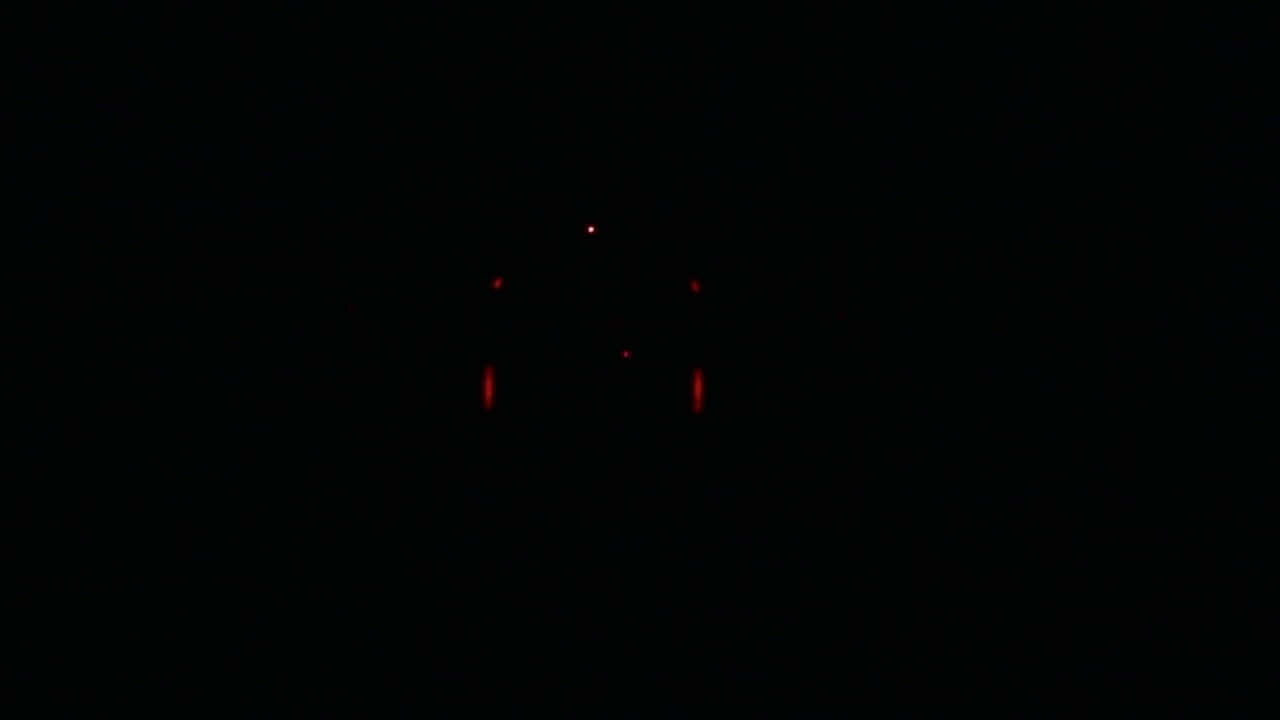lamp: (691, 363, 705, 408), (483, 364, 493, 412)
pair2: (483, 364, 705, 411)
